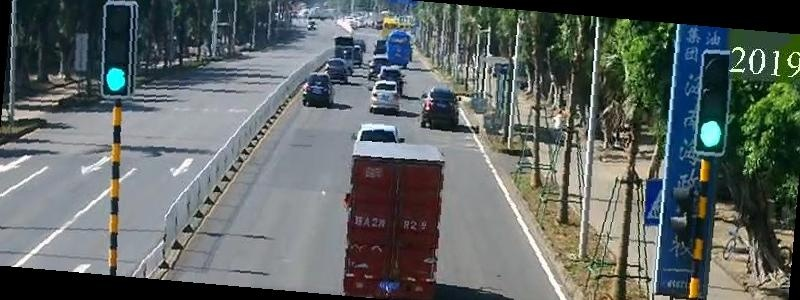green: (99, 60, 144, 101), (692, 117, 737, 155)
